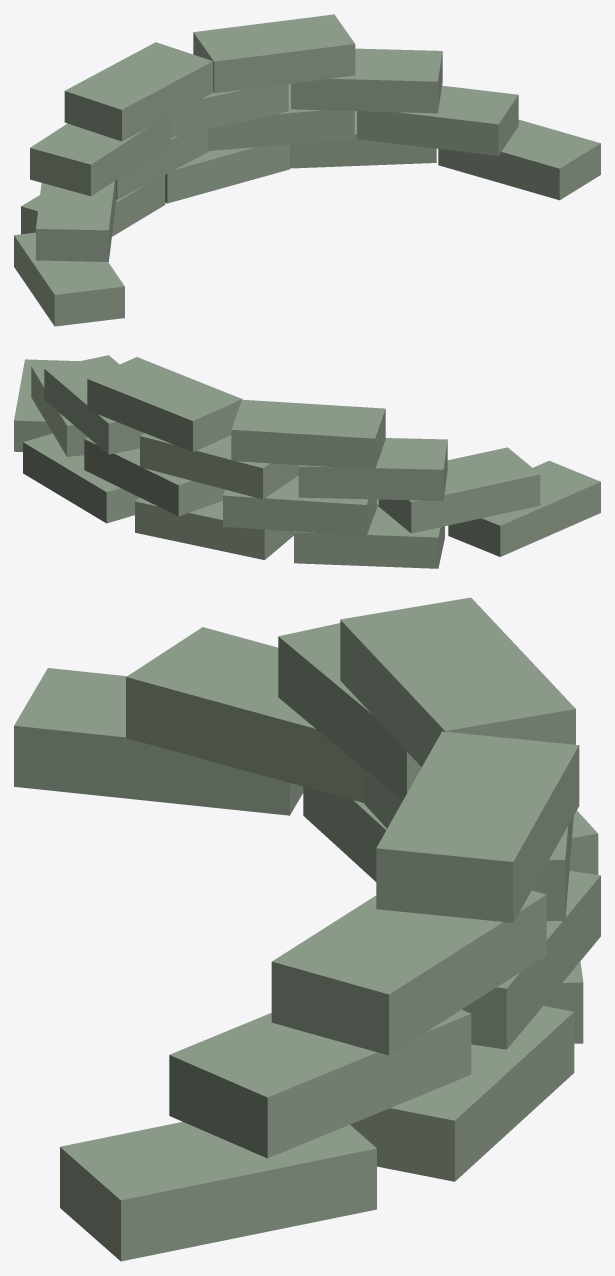
The model's file is sandbags_01.fbx.
3 views of the same model, one above another, from view 1: azimuth 30°, elevation 25°; view 2: azimuth 150°, elevation 25°; view 3: azimuth 270°, elevation 25° (orthographic). The views are drawn at different scales.
Parts seen in each view (by area): view 1: sandbags_01; view 2: sandbags_01; view 3: sandbags_01.
Part boxes in pixels (<box>): sandbags_01: <box>14,14,600,326</box>; sandbags_01: <box>14,355,600,568</box>; sandbags_01: <box>14,597,600,1261</box>.
Bounding box in the file's own units: 6.69 × 1.43 × 3.12.
